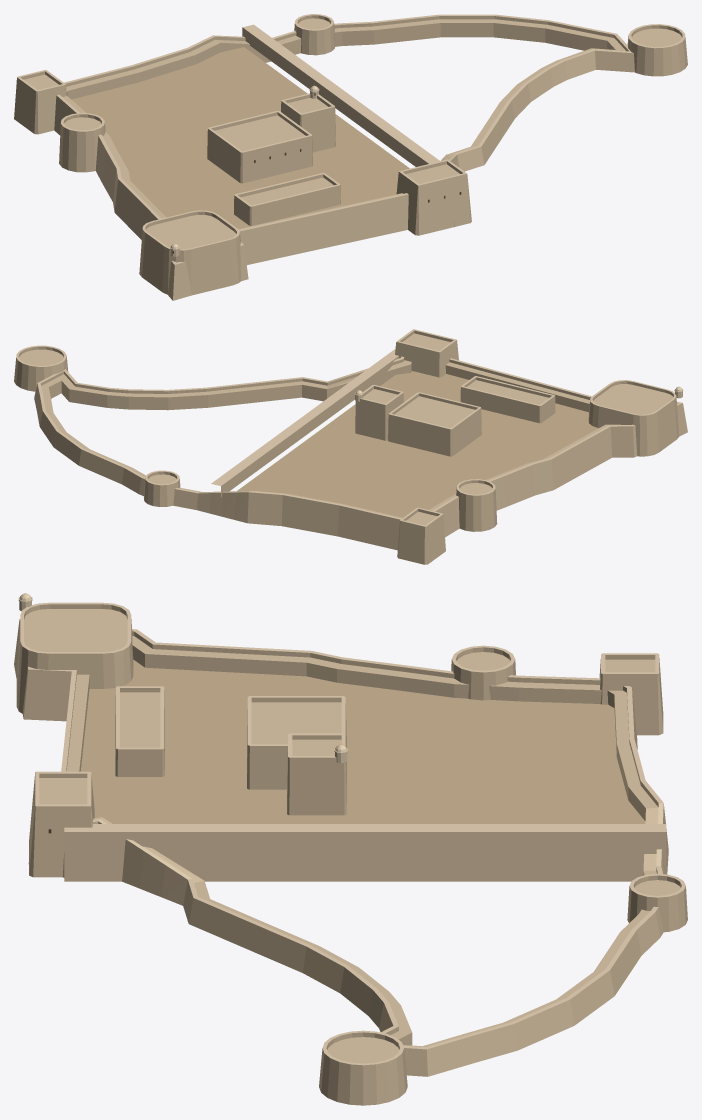
Rendered from manama-qalat-al-bahrain.glb.
3 views of the same model, one above another, from view 1: azimuth 30°, elevation 25°; view 2: azimuth 150°, elevation 25°; view 3: azimuth 270°, elevation 25° (orthographic). The views are drawn at different scales.
Parts seen in each view (by area): view 1: Qal'at al-Bahrain; view 2: Qal'at al-Bahrain; view 3: Qal'at al-Bahrain.
Part boxes in pixels (left/top/right/bottom): Qal'at al-Bahrain: left=14, top=14, right=687, bottom=300; Qal'at al-Bahrain: left=14, top=329, right=687, bottom=564; Qal'at al-Bahrain: left=14, top=593, right=687, bottom=1105.
Size of the model in its own units: 207 by 21.35 by 134.
